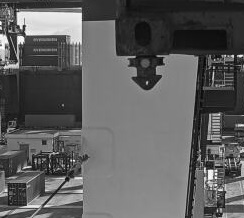Copy of Copy of twist_lock_2: (117, 48, 170, 94)
